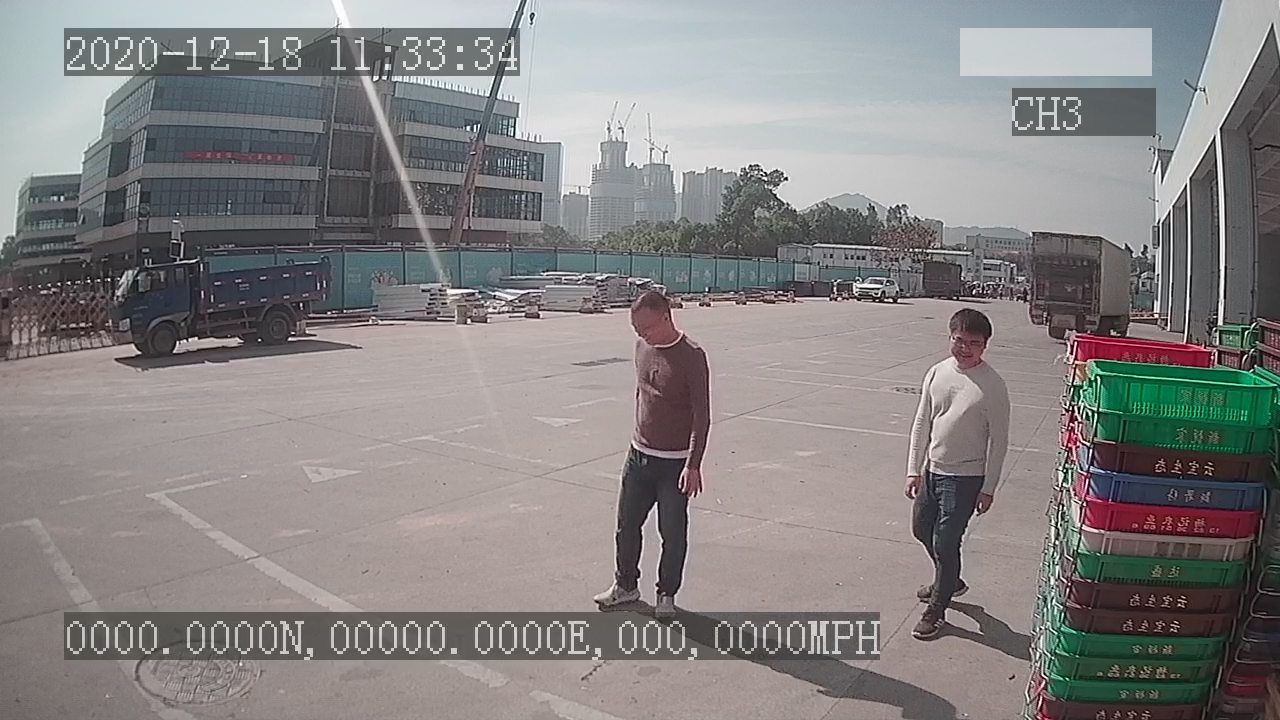person: (898, 306, 1009, 638)
